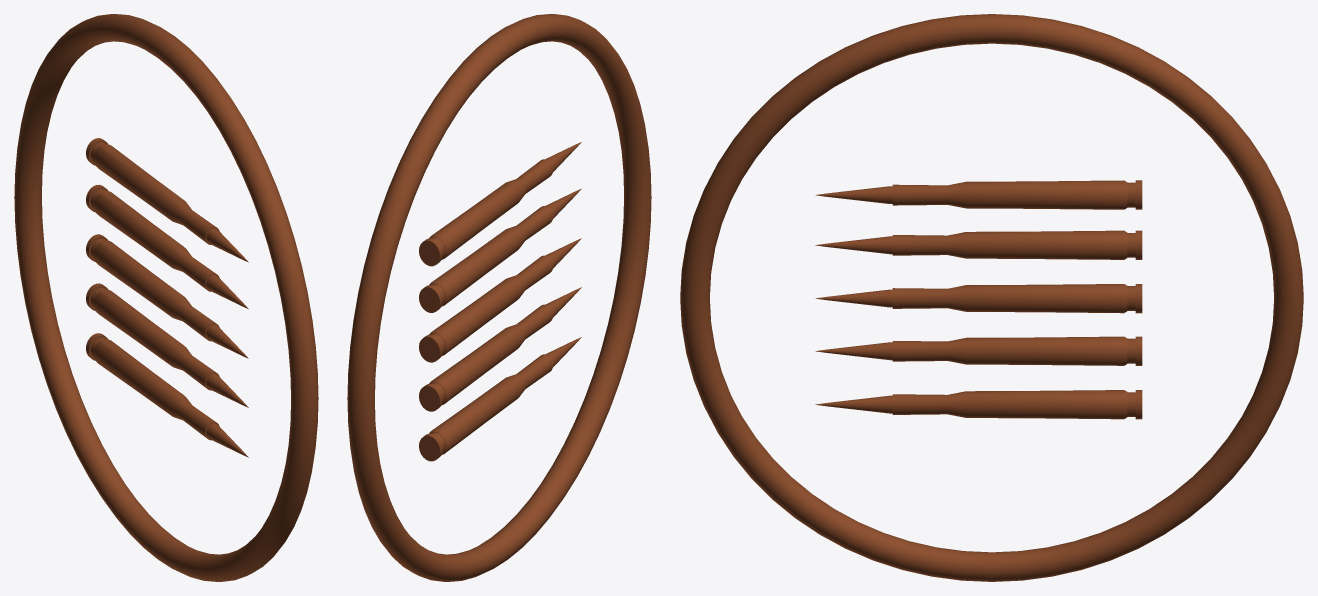
File: Damage.fbx
3 views of the same model, side by side, from view 1: azimuth 30°, elevation 25°; view 2: azimuth 150°, elevation 25°; view 3: azimuth 270°, elevation 25° (orthographic). The views are drawn at different scales.
Parts seen in each view (by area): view 1: Cube; view 2: Cube; view 3: Cube.
Boxes of the visible parts, x1=… form: Cube: x1=14, y1=14, x2=318, y2=581; Cube: x1=347, y1=14, x2=651, y2=581; Cube: x1=680, y1=14, x2=1303, y2=581.
Bounding box in the file's own units: 10 × 210 × 210.
